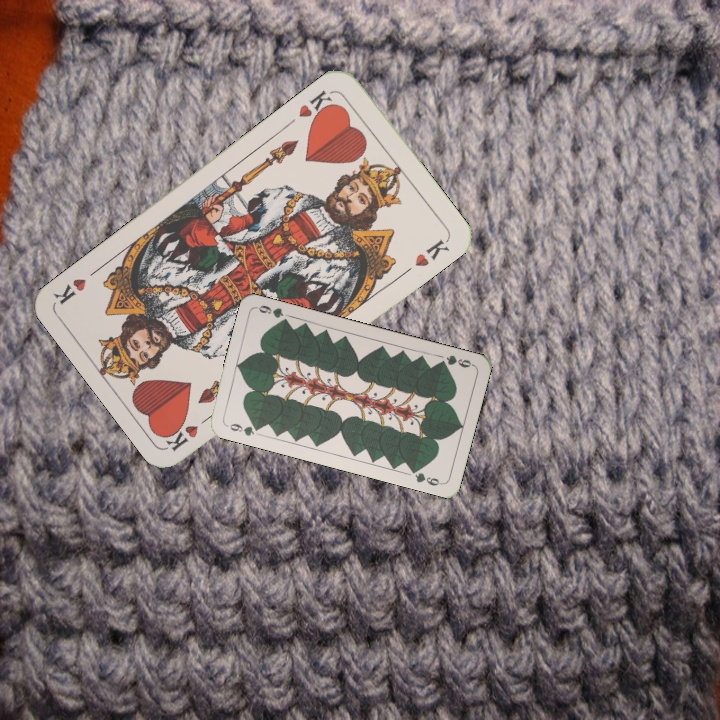G9: (222, 419, 264, 439), (434, 351, 476, 370)
HK: (162, 409, 216, 453), (294, 86, 339, 125)
